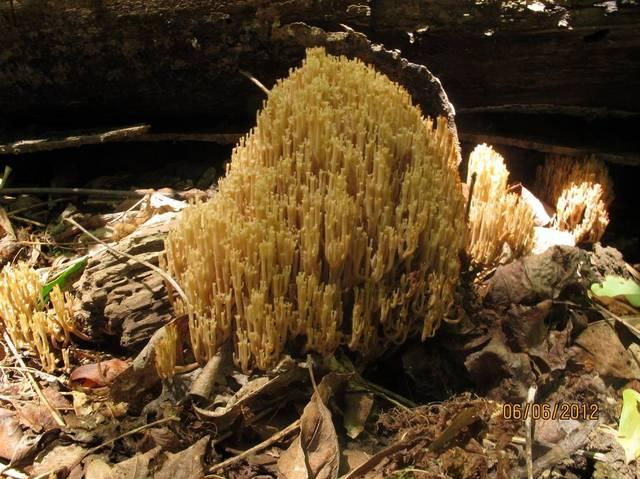Edible Mushroom: (158, 44, 469, 373), (462, 141, 535, 270), (531, 150, 614, 246)
